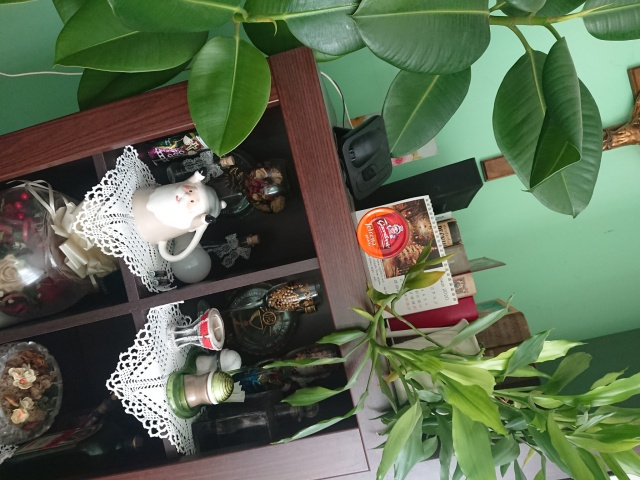Gavrilovic Pork Liver Pate 100g: (354, 205, 411, 260)
